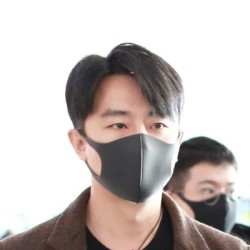mask: (64, 122, 179, 204)
